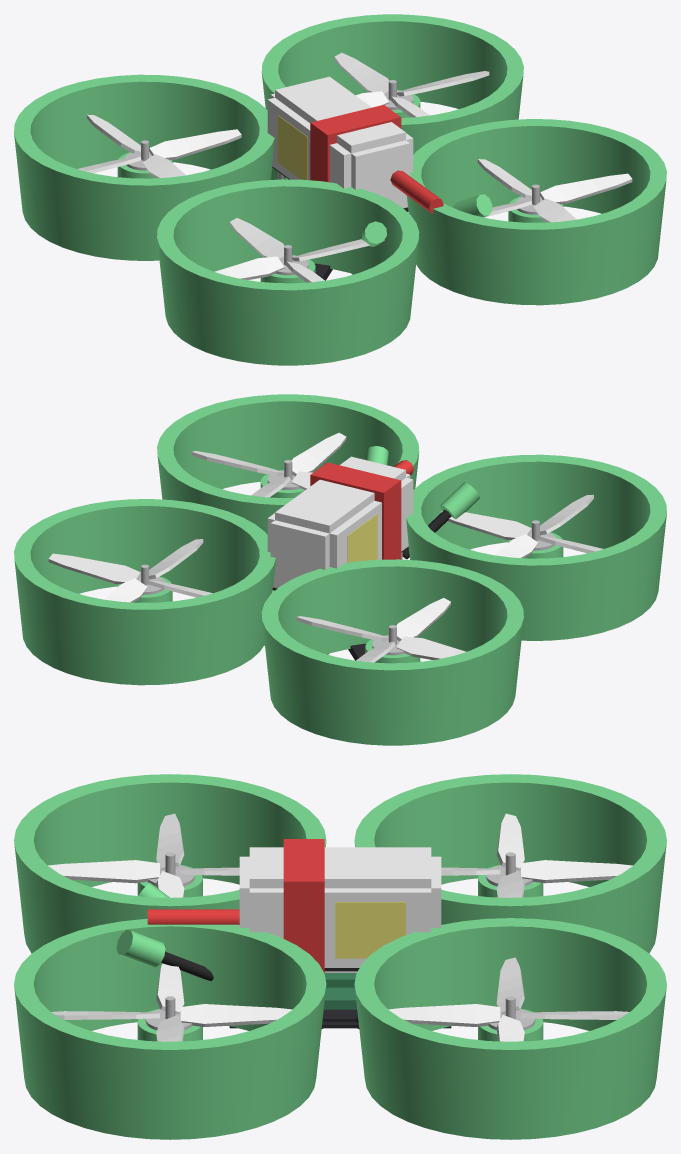
Rendered from trainer3.glb.
The picture shows the model from 3 angles, top to bottom: view 1: azimuth 30°, elevation 25°; view 2: azimuth 150°, elevation 25°; view 3: azimuth 270°, elevation 25°; orthographic projection. The views are drawn at different scales.
Parts seen in each view (by area): view 1: body, prop_FL, prop_RR, prop_RL, prop_FR; view 2: body, prop_FR, prop_FL, prop_RL, prop_RR; view 3: body, prop_FR, prop_RR, prop_FL, prop_RL.
Part boxes in pixels (x1,y1,x2,y2): body: (14, 14, 666, 365); prop_FL: (78, 114, 241, 178); prop_RR: (477, 159, 632, 222); prop_RL: (214, 218, 384, 282); prop_FR: (334, 52, 489, 117); body: (14, 394, 666, 745); prop_FR: (48, 539, 212, 602); prop_FL: (296, 598, 466, 662); prop_RL: (441, 494, 602, 558); prop_RR: (191, 432, 346, 497); body: (14, 774, 666, 1139); prop_FR: (388, 957, 629, 1041); prop_RR: (51, 963, 292, 1041); prop_FL: (441, 813, 632, 897); prop_RL: (48, 813, 239, 897).
Size of the model in its own units: 0.1918 by 0.0514 by 0.1918.
